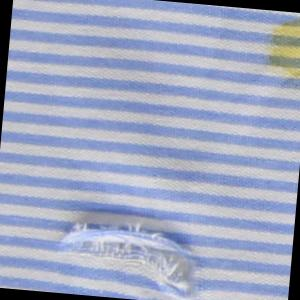Damage: (44, 214, 217, 300)
Oil Stain: (265, 11, 300, 87)
